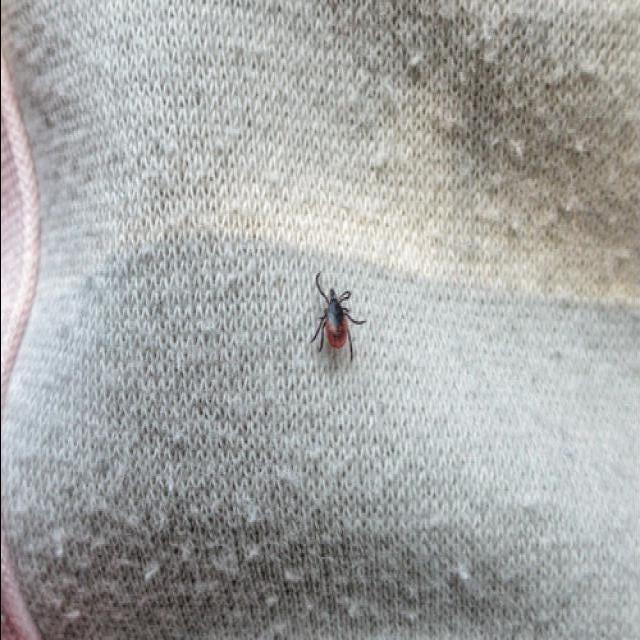Ixodes Ricinus-F: (311, 277, 366, 363)
